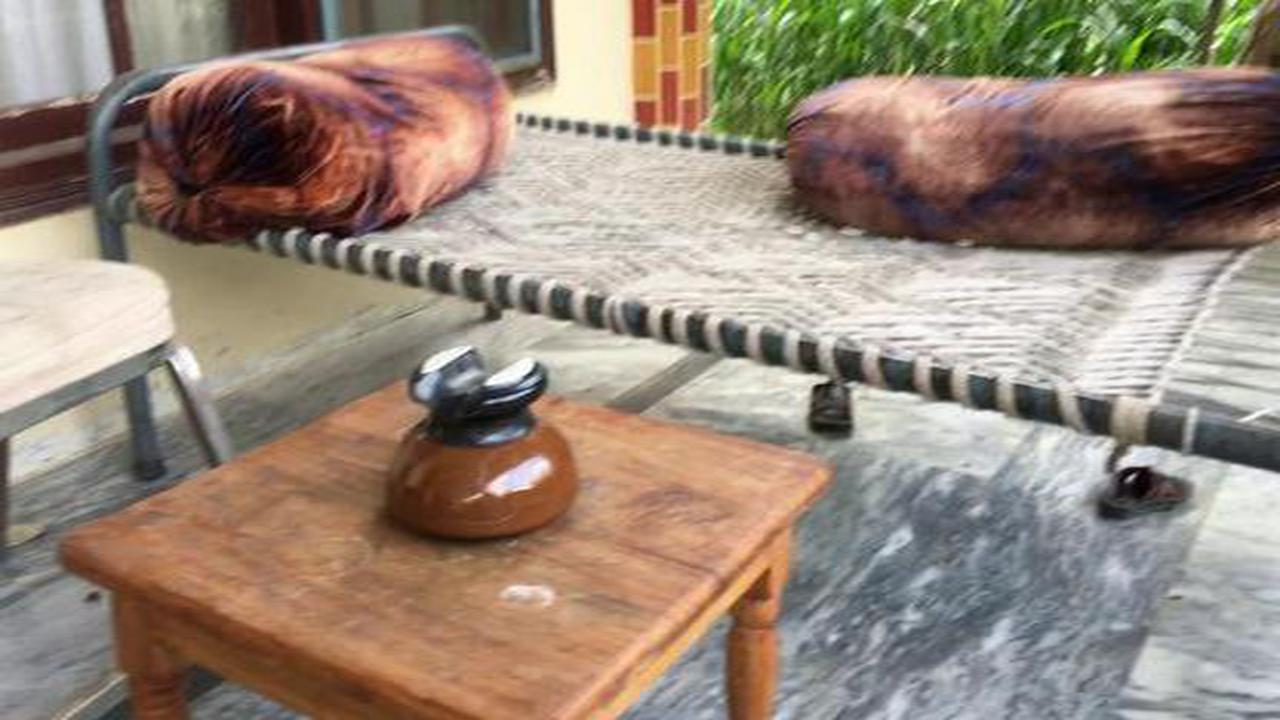insulator_pin: (370, 335, 591, 556)
